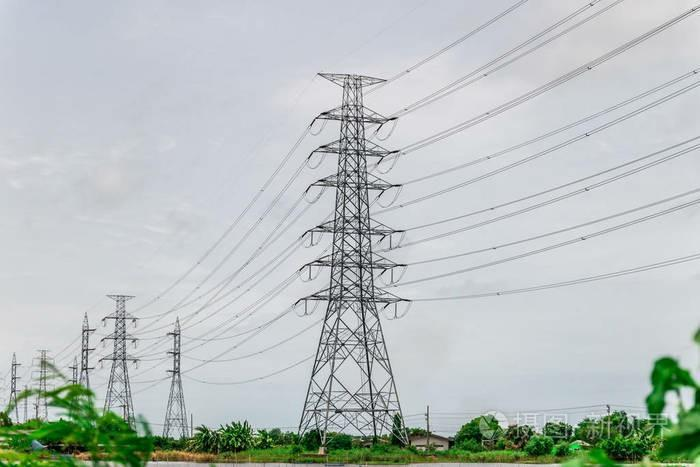power_tower: (286, 65, 420, 454), (98, 287, 152, 437), (159, 312, 198, 436)
